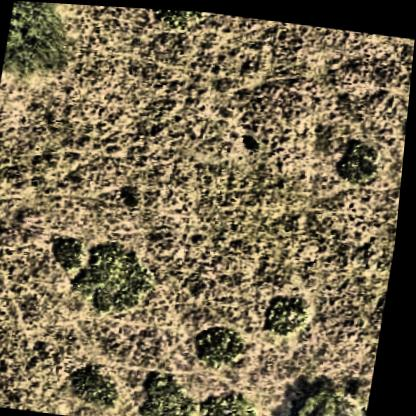tree-top: (73, 240, 165, 319), (2, 0, 74, 86), (69, 353, 131, 412), (142, 363, 209, 416), (264, 285, 322, 343), (331, 126, 387, 186), (295, 372, 370, 416), (196, 316, 258, 369), (52, 227, 96, 271), (207, 382, 262, 416), (145, 7, 211, 32)
